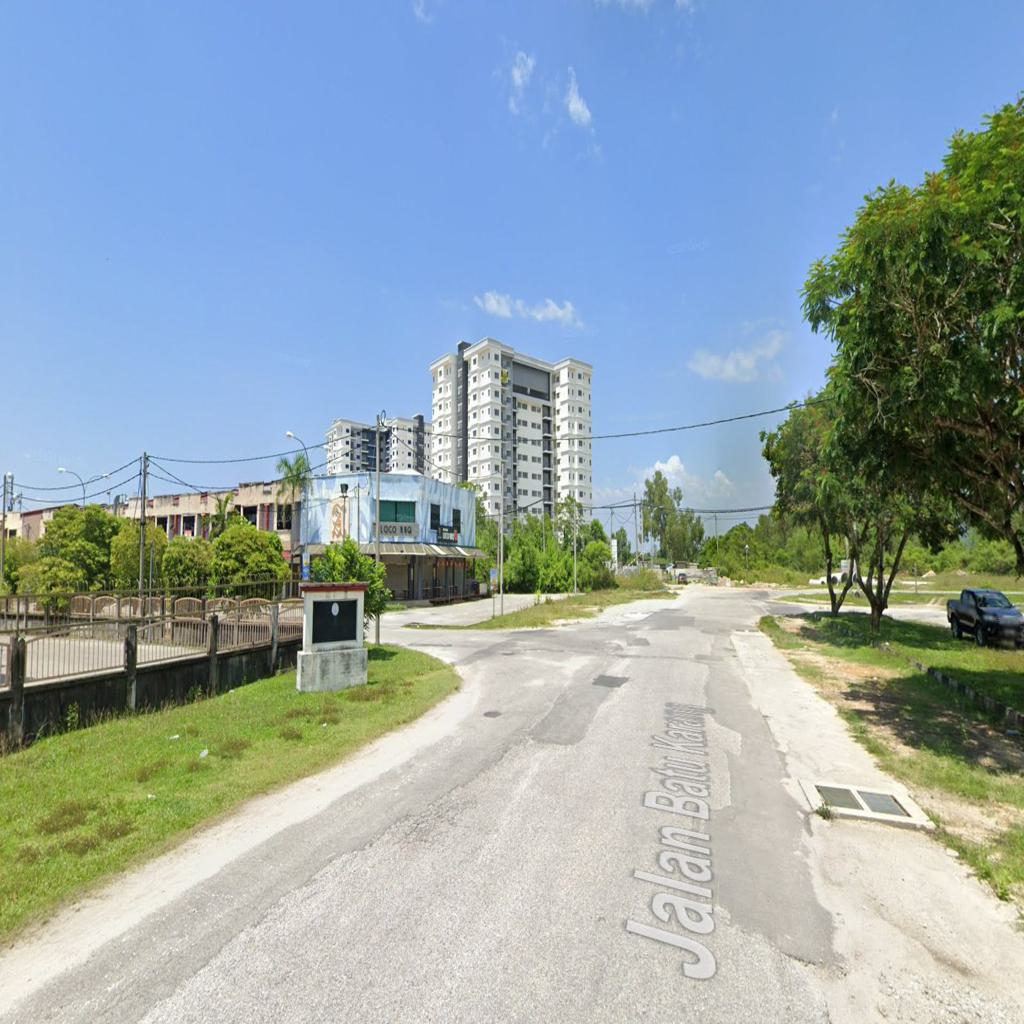Junction: (374, 600, 600, 718)
